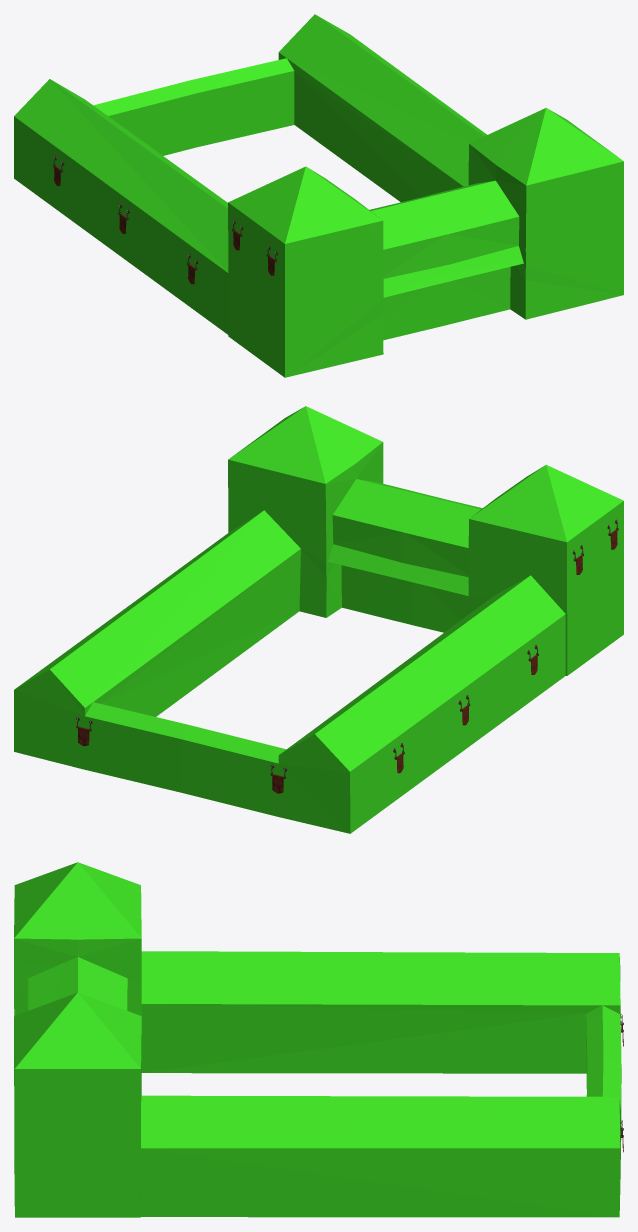
The model's file is roman villa.fbx.
The picture shows the model from 3 angles, top to bottom: view 1: azimuth 30°, elevation 25°; view 2: azimuth 150°, elevation 25°; view 3: azimuth 270°, elevation 25°; orthographic projection. The views are drawn at different scales.
Parts seen in each view (by area): view 1: Villa; view 2: Villa; view 3: Villa.
Part boxes in pixels (bbox=[...]): Villa: bbox=[14, 14, 623, 377]; Villa: bbox=[14, 406, 623, 833]; Villa: bbox=[14, 862, 623, 1217].
Size of the model in its own units: 11.41 by 5.72 by 15.87.
